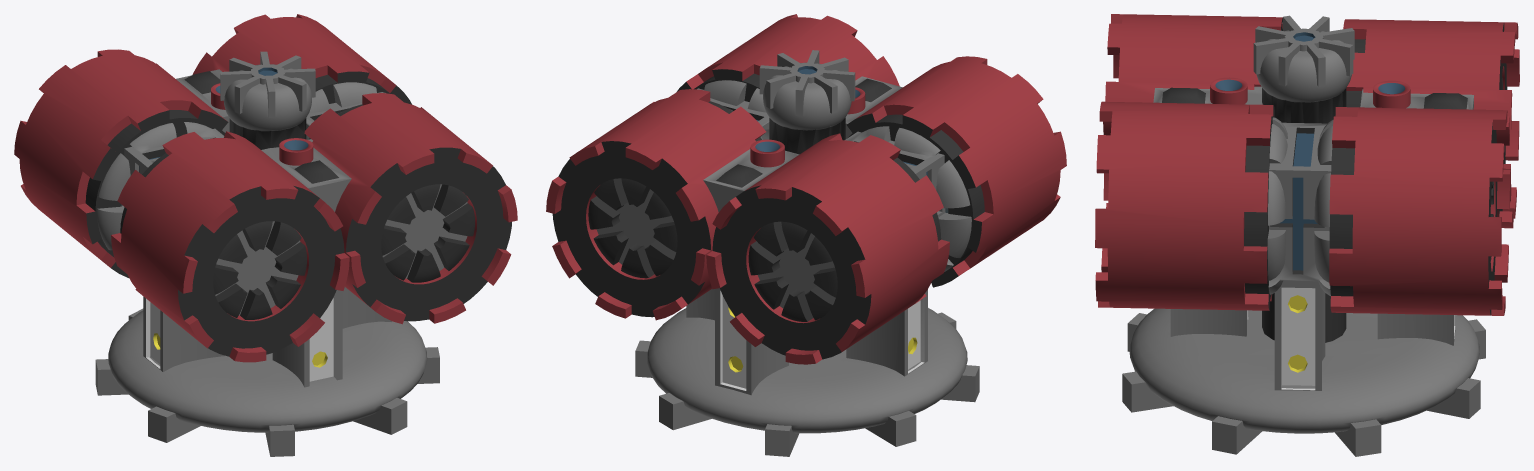
The model's file is Floater_03.fbx.
The picture shows the model from 3 angles, left to right: view 1: azimuth 30°, elevation 25°; view 2: azimuth 150°, elevation 25°; view 3: azimuth 270°, elevation 25°; orthographic projection. The views are drawn at different scales.
Parts seen in each view (by area): view 1: Model; view 2: Model; view 3: Model.
Part boxes in pixels (left/top/right/bottom): Model: left=14, top=14, right=517, bottom=456; Model: left=546, top=14, right=1066, bottom=456; Model: left=1095, top=14, right=1519, bottom=456.
Bounding box in the file's own units: 211 × 184 × 207.
